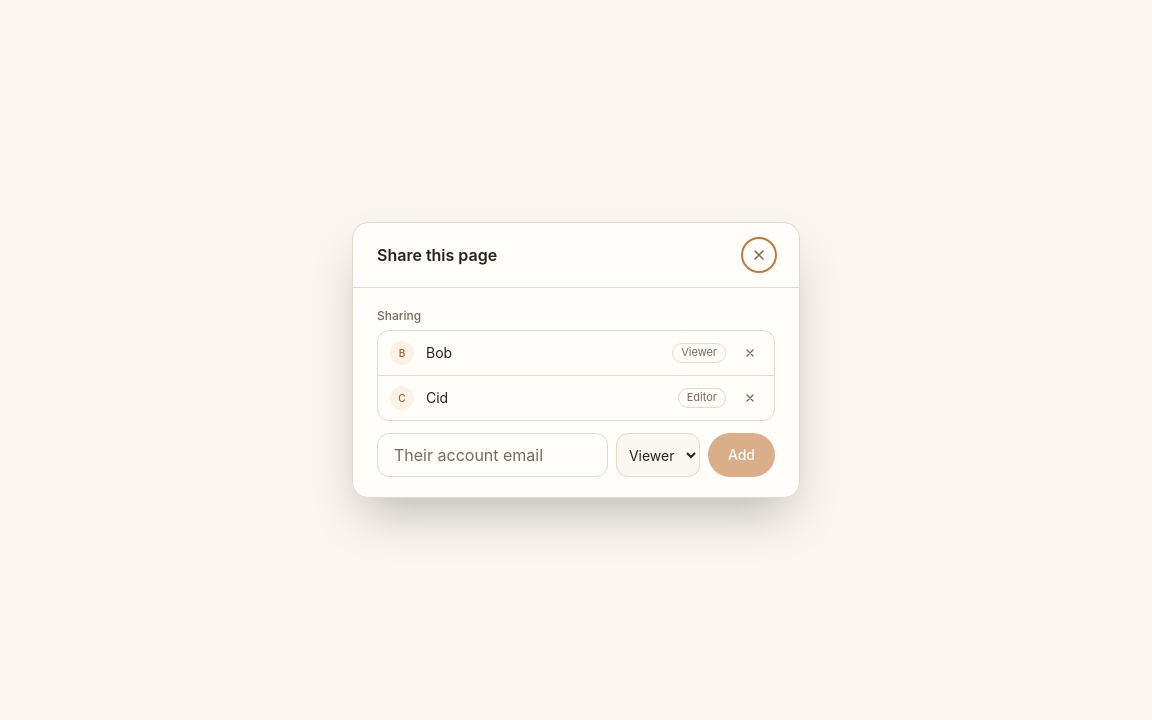
Test: SharePageDialog › maps cannot_share_with_owner to its own copy
Type "owner@example.com" into the field labelled "Their account email" at [492, 455], box [377,433,608,477]
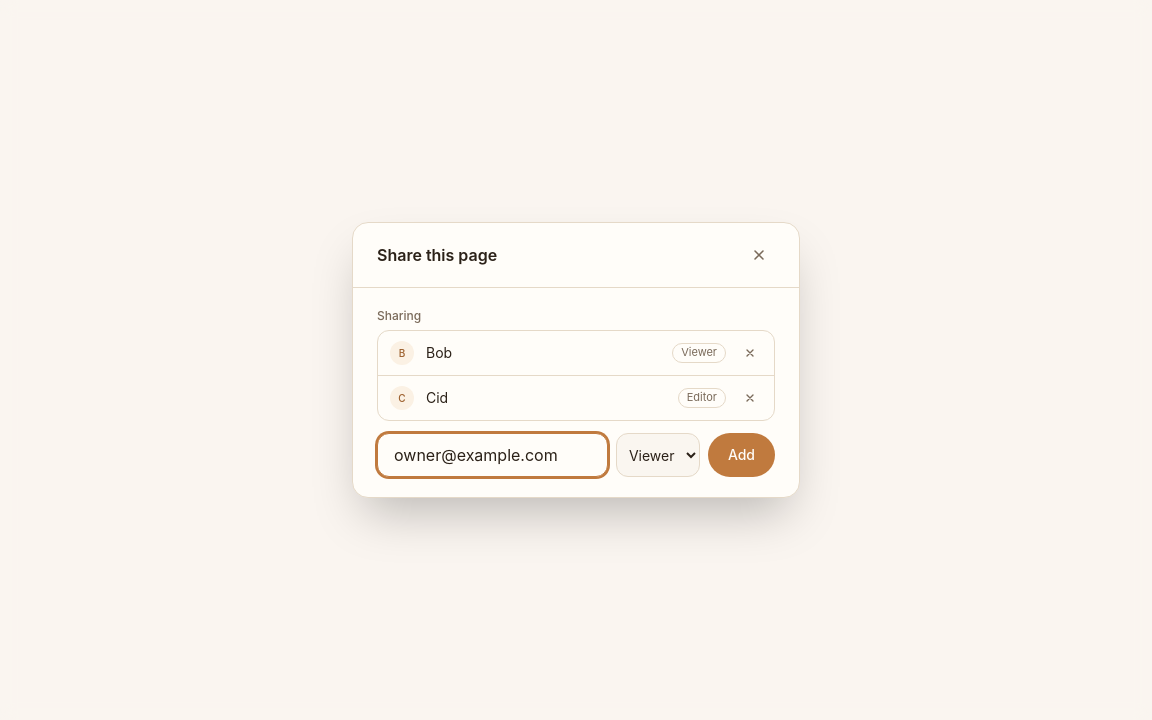
Click the button "Add" at [741, 455], box [708,433,775,477]
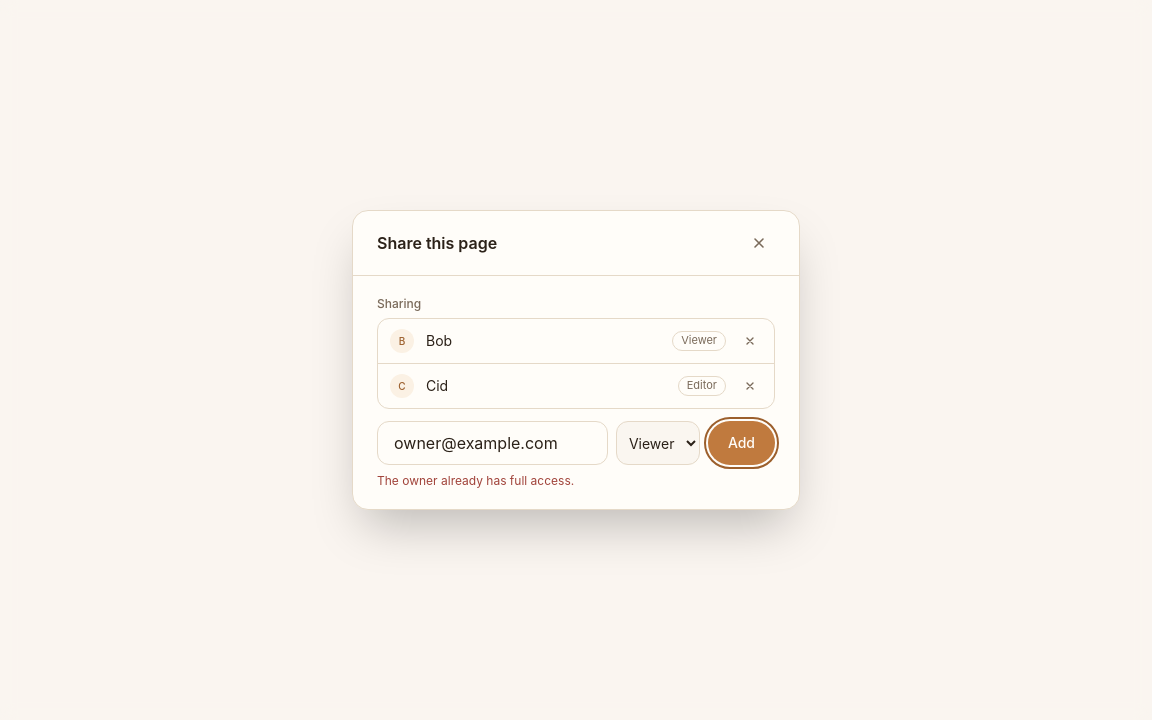
Check: the text "The owner already has full access." is shown, box [377,473,574,488]
